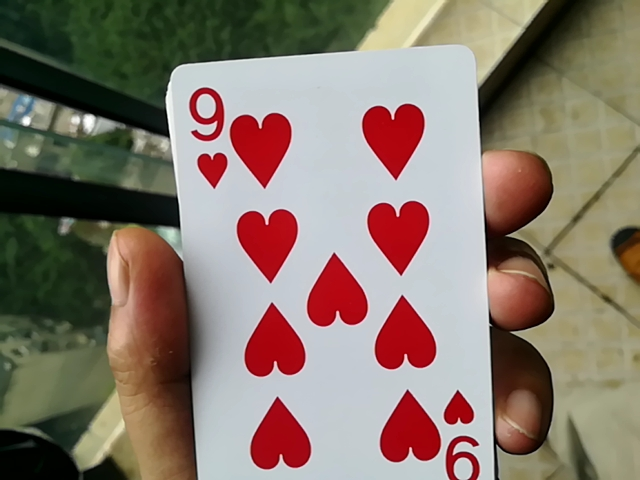hx 9: (139, 47, 492, 480)
